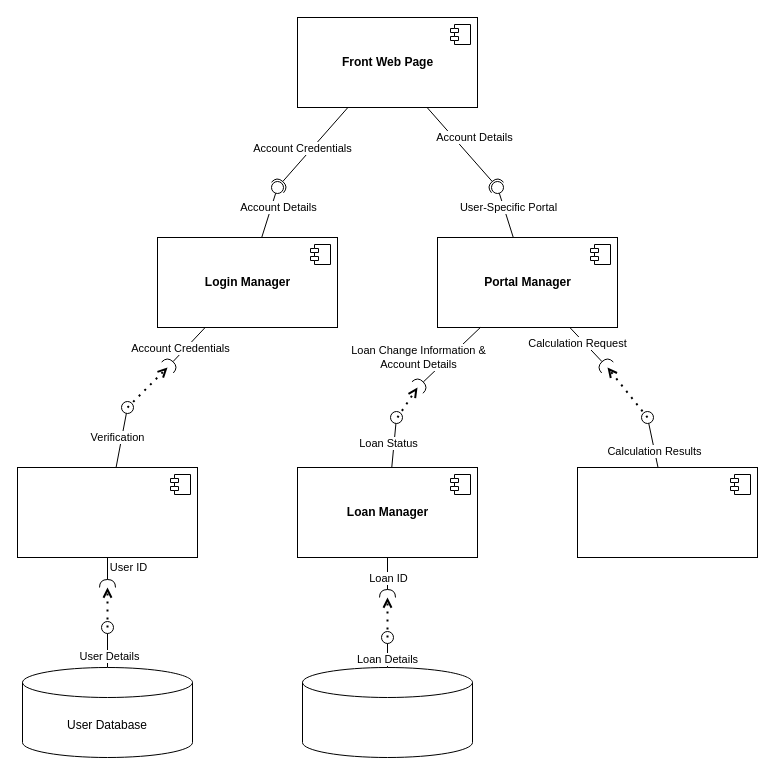
This 775x775 diagram has some shape labels left out. The shapes that lost their labels are listed below. From the top down, each one's centre as x and y in pixels, then its label:
the point at 107,512: Credential Verification
the point at 667,512: Calculators
the point at 387,712: Loan Database
